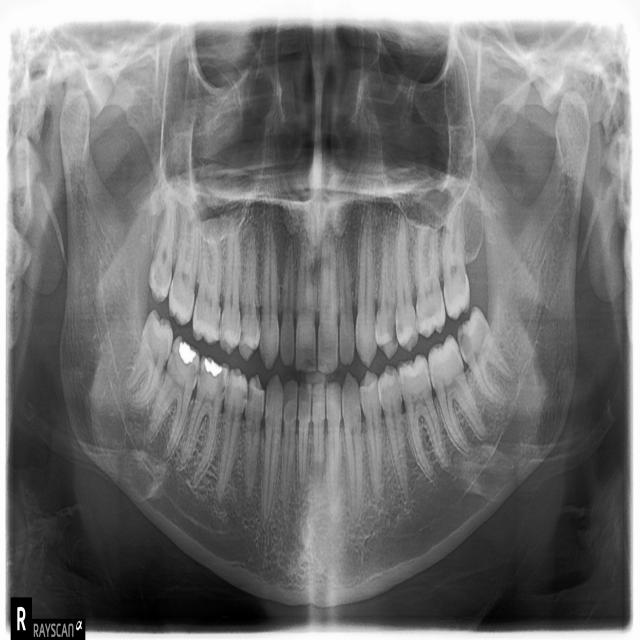mandibula: (58, 86, 589, 615)
